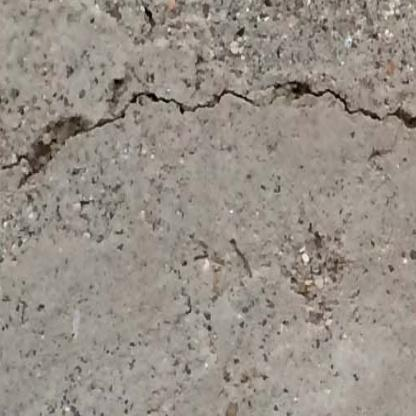Cracks: (0, 85, 259, 192), (270, 78, 416, 139)
